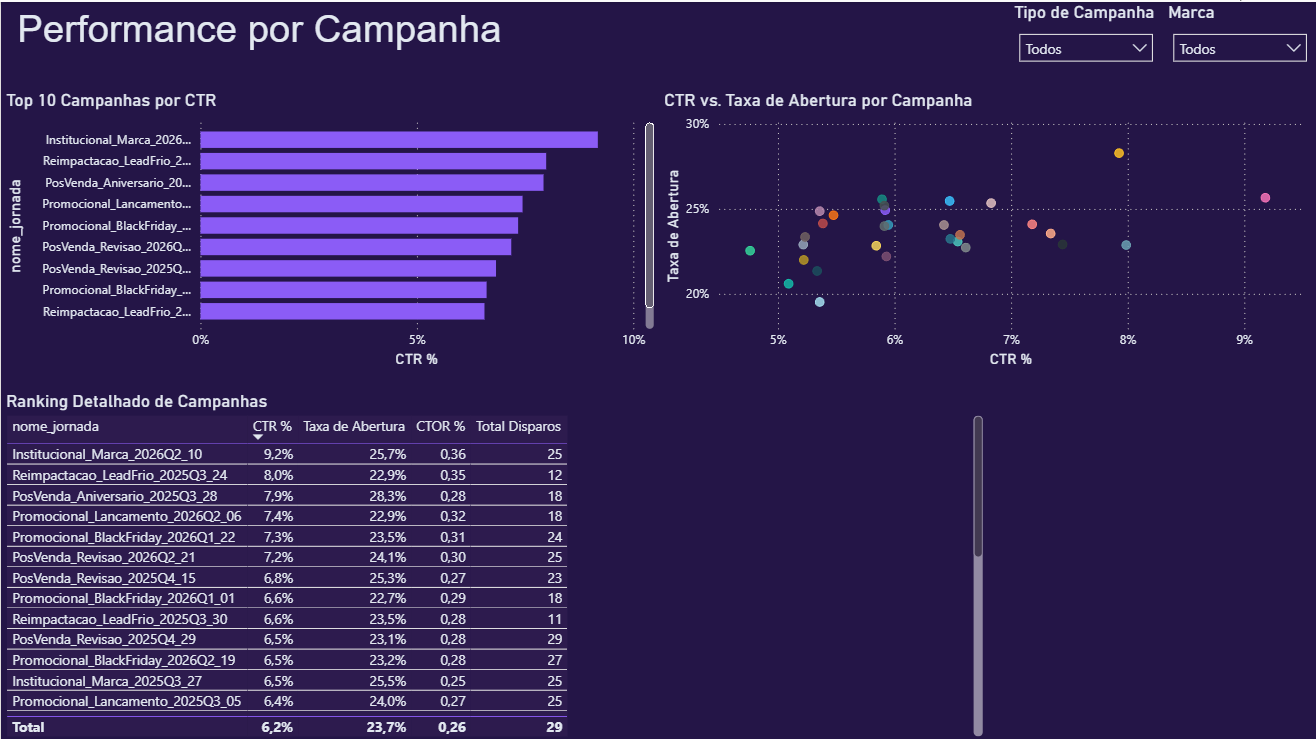

This screenshot's page, from the dashboard's own definition file:
{"tool":"powerbi","page":{"name":"Performance por Campanha","canvas":[1280,720],"ordinal":1},"visuals":[{"type":"textbox","box":[0,0,502.9,99.2],"z":0},{"type":"barChart","title":"Top 10 Campanhas por CTR","fields":{"Category":["dim_campanha.nome_jornada"],"Y":["fato_agregado_diario.CTR %"]},"box":[0,85.6,640,274.3],"z":1000},{"type":"scatterChart","title":"CTR vs. Taxa de Abertura por Campanha","fields":{"X":["fato_agregado_diario.CTR %"],"Series":["dim_campanha.nome_jornada"],"Y":["fato_agregado_diario.Taxa de Abertura"]},"box":[640,85.6,640,274.3],"z":2000},{"type":"tableEx","title":"Ranking Detalhado de Campanhas","fields":{"Values":["dim_campanha.nome_jornada","fato_agregado_diario.CTR %","fato_agregado_diario.Taxa de Abertura","fato_agregado_diario.CTOR %","fato_agregado_diario.Total Disparos"]},"box":[0,378.4,960,341.4],"z":3000},{"type":"slicer","title":"Tipo de Campanha","fields":{"Values":["dim_campanha.tipo_campanha"]},"box":[980.4,0,149.8,85.6],"z":4000},{"type":"slicer","title":"Marca","fields":{"Values":["dim_marca.nome_marca"]},"box":[1130.2,0,149.8,85.6],"z":5000}]}

Visuals, with their boxes in screenshot pixels (x1, y1, x2, y2), scaled from the page's 1280x720 canvas onto the 1316x739 screenshot:
textbox: pyautogui.locateOnScreen(0, 0, 517, 102)
"Top 10 Campanhas por CTR" barChart: pyautogui.locateOnScreen(0, 88, 658, 369)
"CTR vs. Taxa de Abertura por Campanha" scatterChart: pyautogui.locateOnScreen(658, 88, 1315, 369)
"Ranking Detalhado de Campanhas" tableEx: pyautogui.locateOnScreen(0, 388, 987, 738)
"Tipo de Campanha" slicer: pyautogui.locateOnScreen(1008, 0, 1162, 88)
"Marca" slicer: pyautogui.locateOnScreen(1162, 0, 1315, 88)
